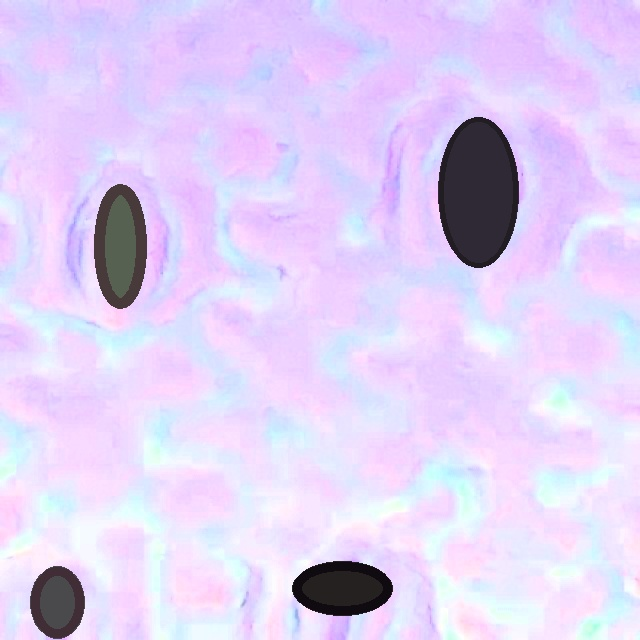open: (438, 117, 518, 267), (94, 184, 147, 307), (292, 561, 391, 615), (30, 567, 84, 638)
